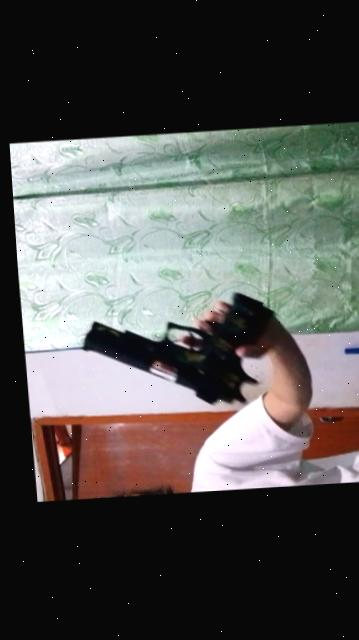pistol: (58, 294, 288, 422)
